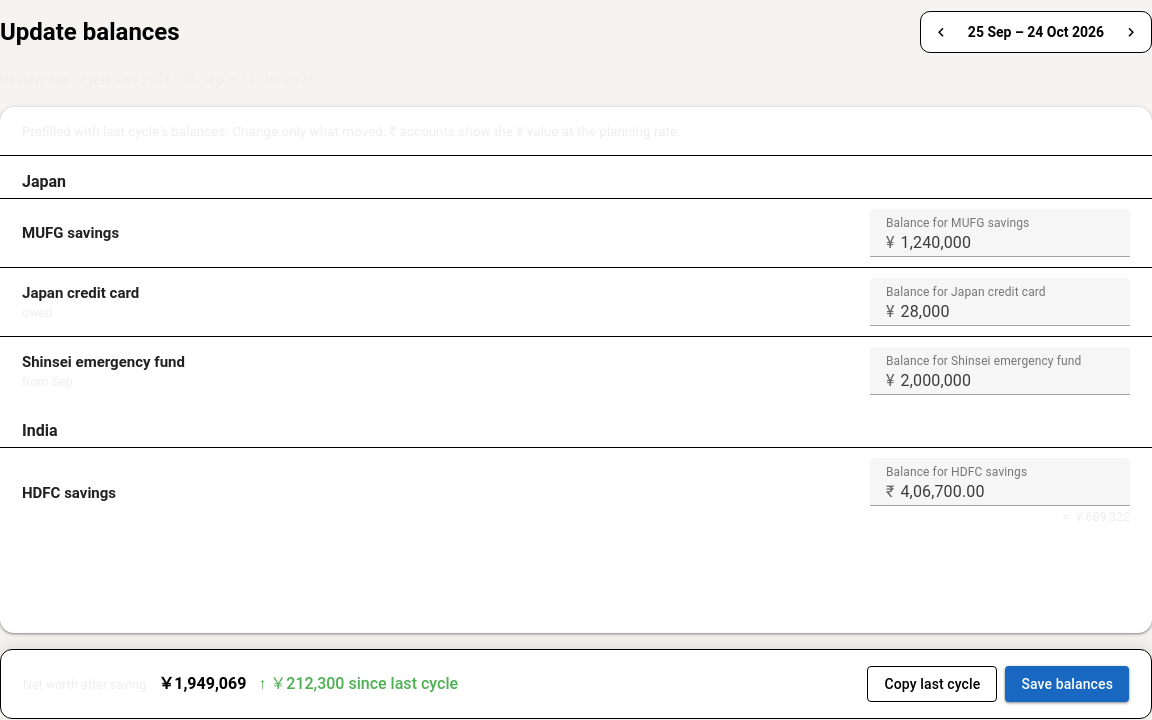
Scenario: UpdateBalancesPage › blocks Save and shows a field error on an invalid ₹ entry (more than 2 decimals)
Replace the text in the field labelled "Balance for HDFC savings" with "12345.678" at x=1012, y=482, box [894,458,1130,506]
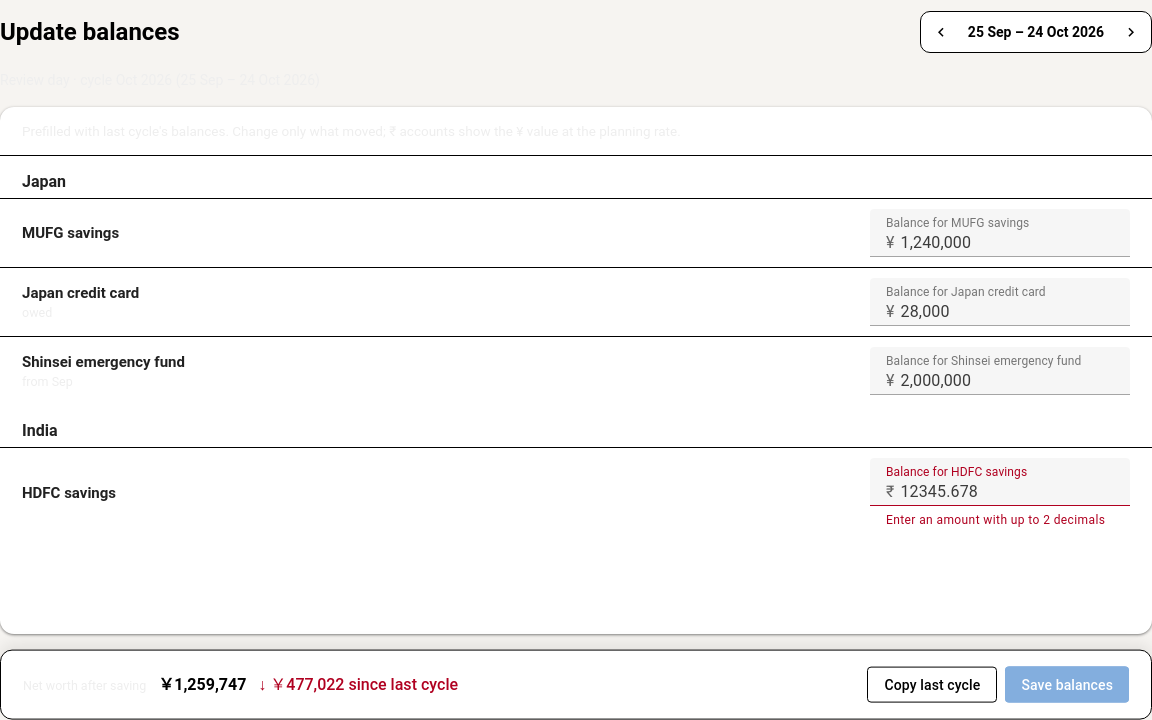
Result: the button "Save balances" is disabled at [1005,667,1129,703]
Result: the text "Enter an amount with up to 2 decimals" is shown at [886,514,1114,526]
